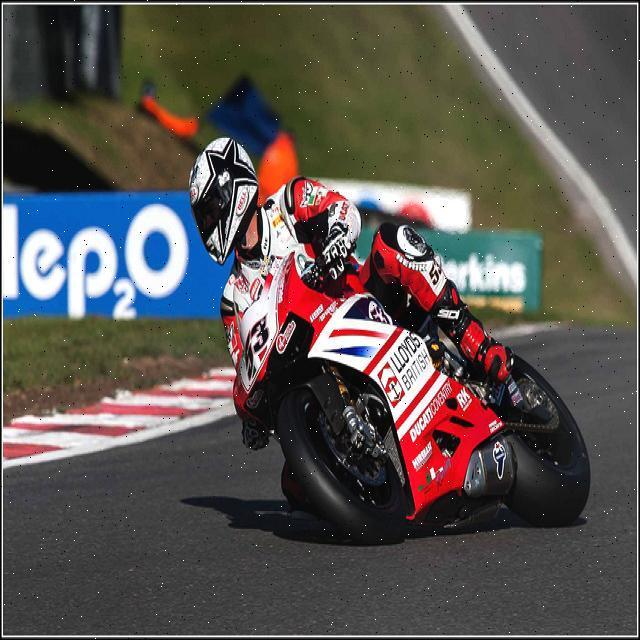motorcycle: (203, 260, 552, 553)
